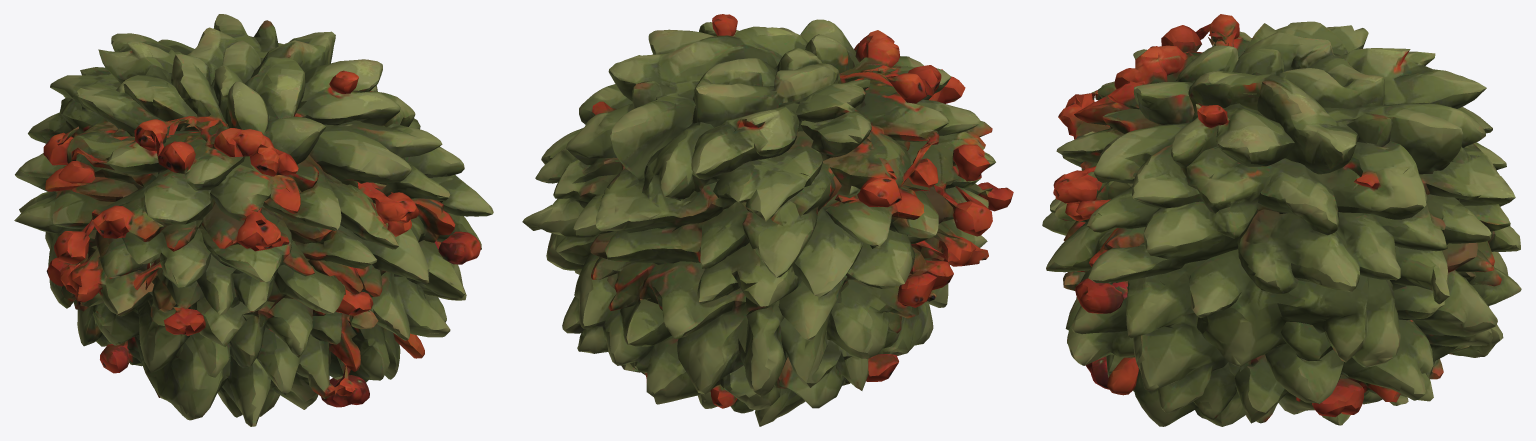
File: bush_berry_ripe.glb
3 views of the same model, side by side, from view 1: azimuth 30°, elevation 25°; view 2: azimuth 150°, elevation 25°; view 3: azimuth 270°, elevation 25° (orthographic). The views are drawn at different scales.
Visible parts, largest first — view 1: bush_berry_ripe; view 2: bush_berry_ripe; view 3: bush_berry_ripe.
Boxes of the visible parts, bbox=[...] form: bush_berry_ripe: bbox=[14, 14, 493, 426]; bush_berry_ripe: bbox=[522, 14, 1013, 426]; bush_berry_ripe: bbox=[1042, 14, 1521, 426].
Size of the model in its own units: 1.18 by 0.9693 by 1.2.
Materials: 1 (1 with a texture image).
